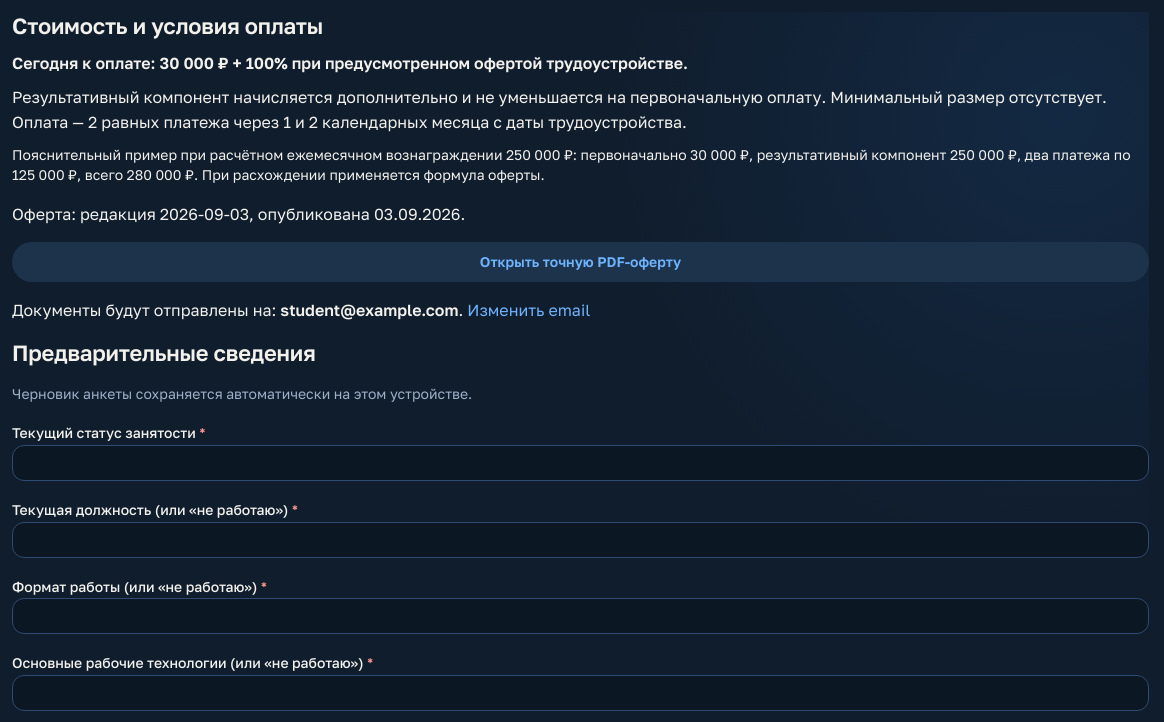
Test: не роняет форму при повреждённом черновике и сообщает об ошибке сохранения
Type "Новая должность" into the field labelled "Текущая должность (или «не работаю») *" at (580, 540), box top-left (12, 522), bottom-right (1149, 558)
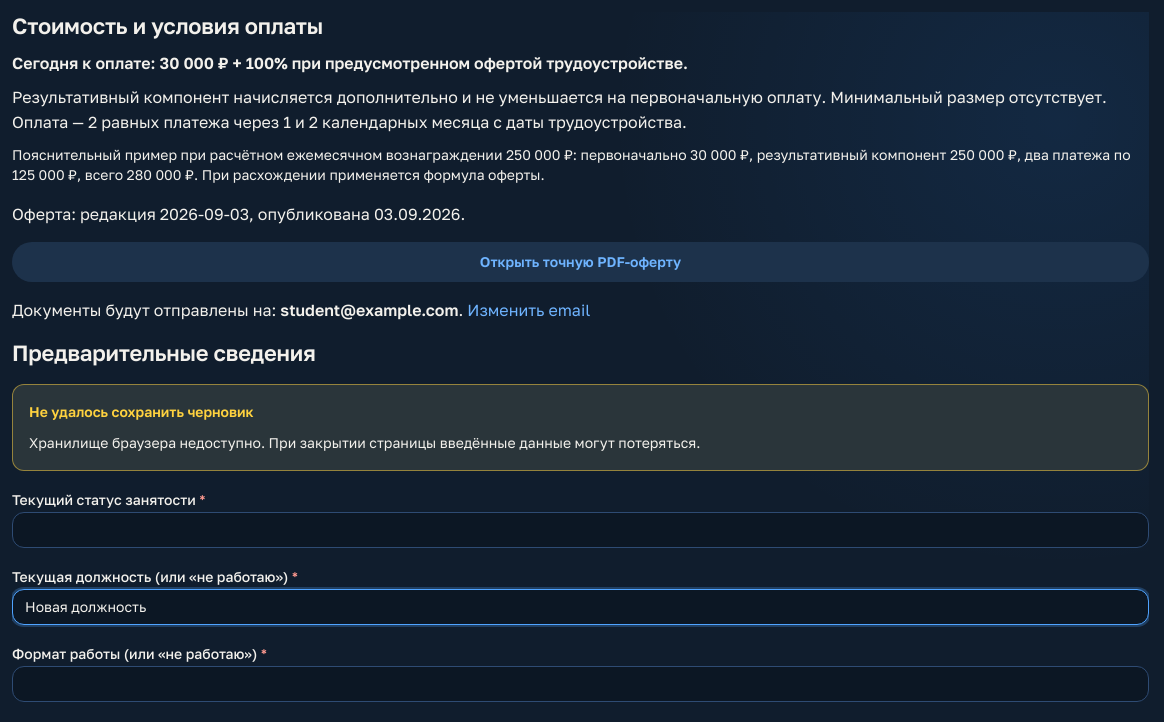
Check: the text "Не удалось сохранить черновик" is shown, box top-left (29, 401), bottom-right (254, 422)
